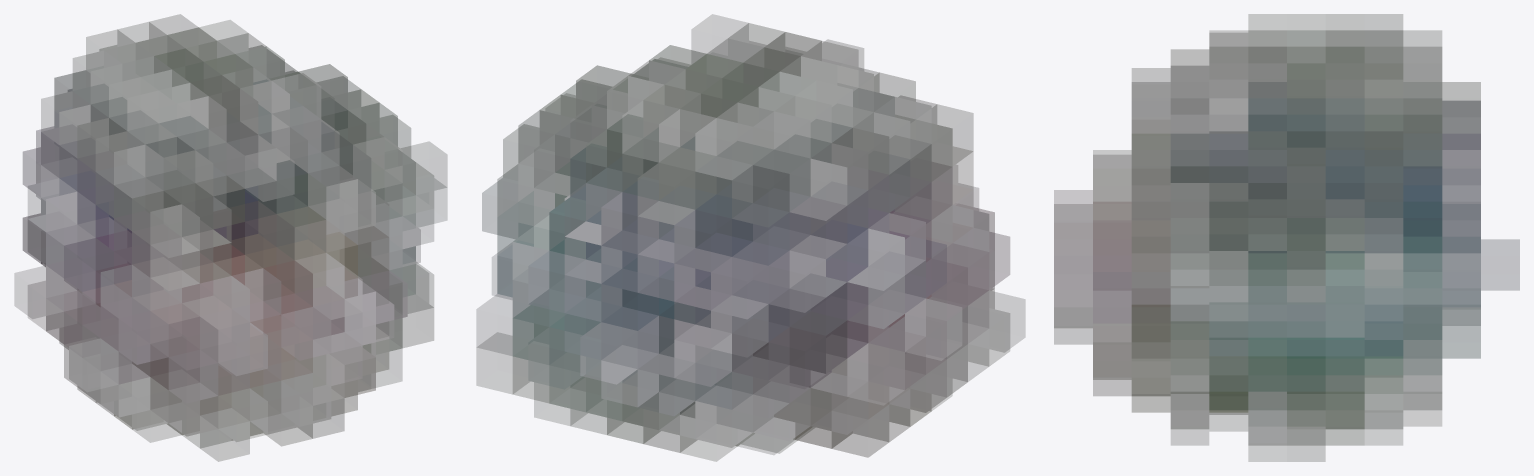
The model's file is iter_15.obj.
The picture shows the model from 3 angles, left to right: view 1: azimuth 30°, elevation 25°; view 2: azimuth 150°, elevation 25°; view 3: azimuth 270°, elevation 25°; orthographic projection. The views are drawn at different scales.
Visible parts, largest first — view 1: iter_15; view 2: iter_15; view 3: iter_15.
Boxes of the visible parts, box(x1,y1,x2,y2) form: iter_15: box(15, 14, 447, 461); iter_15: box(476, 14, 1024, 461); iter_15: box(1054, 14, 1519, 461).
Bounding box in the file's own units: 1.2 × 1 × 1.2.
